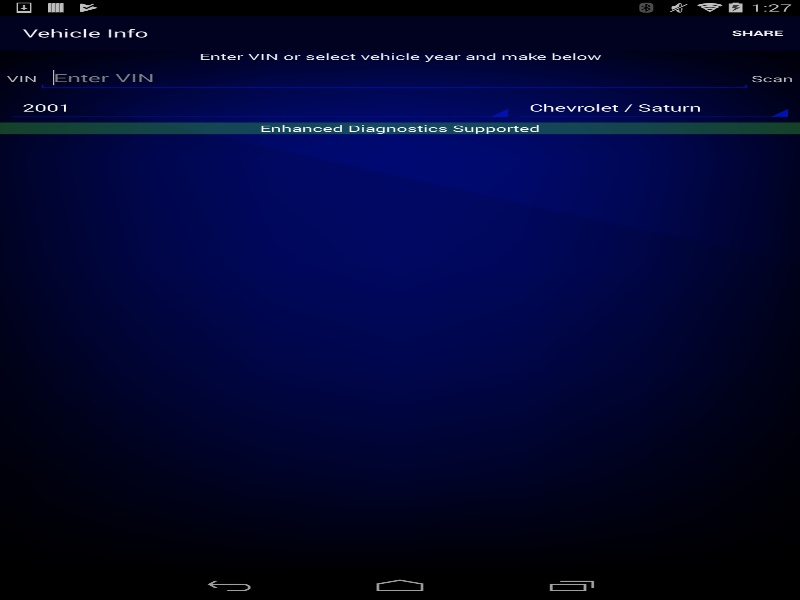Input: (37, 65, 751, 90)
